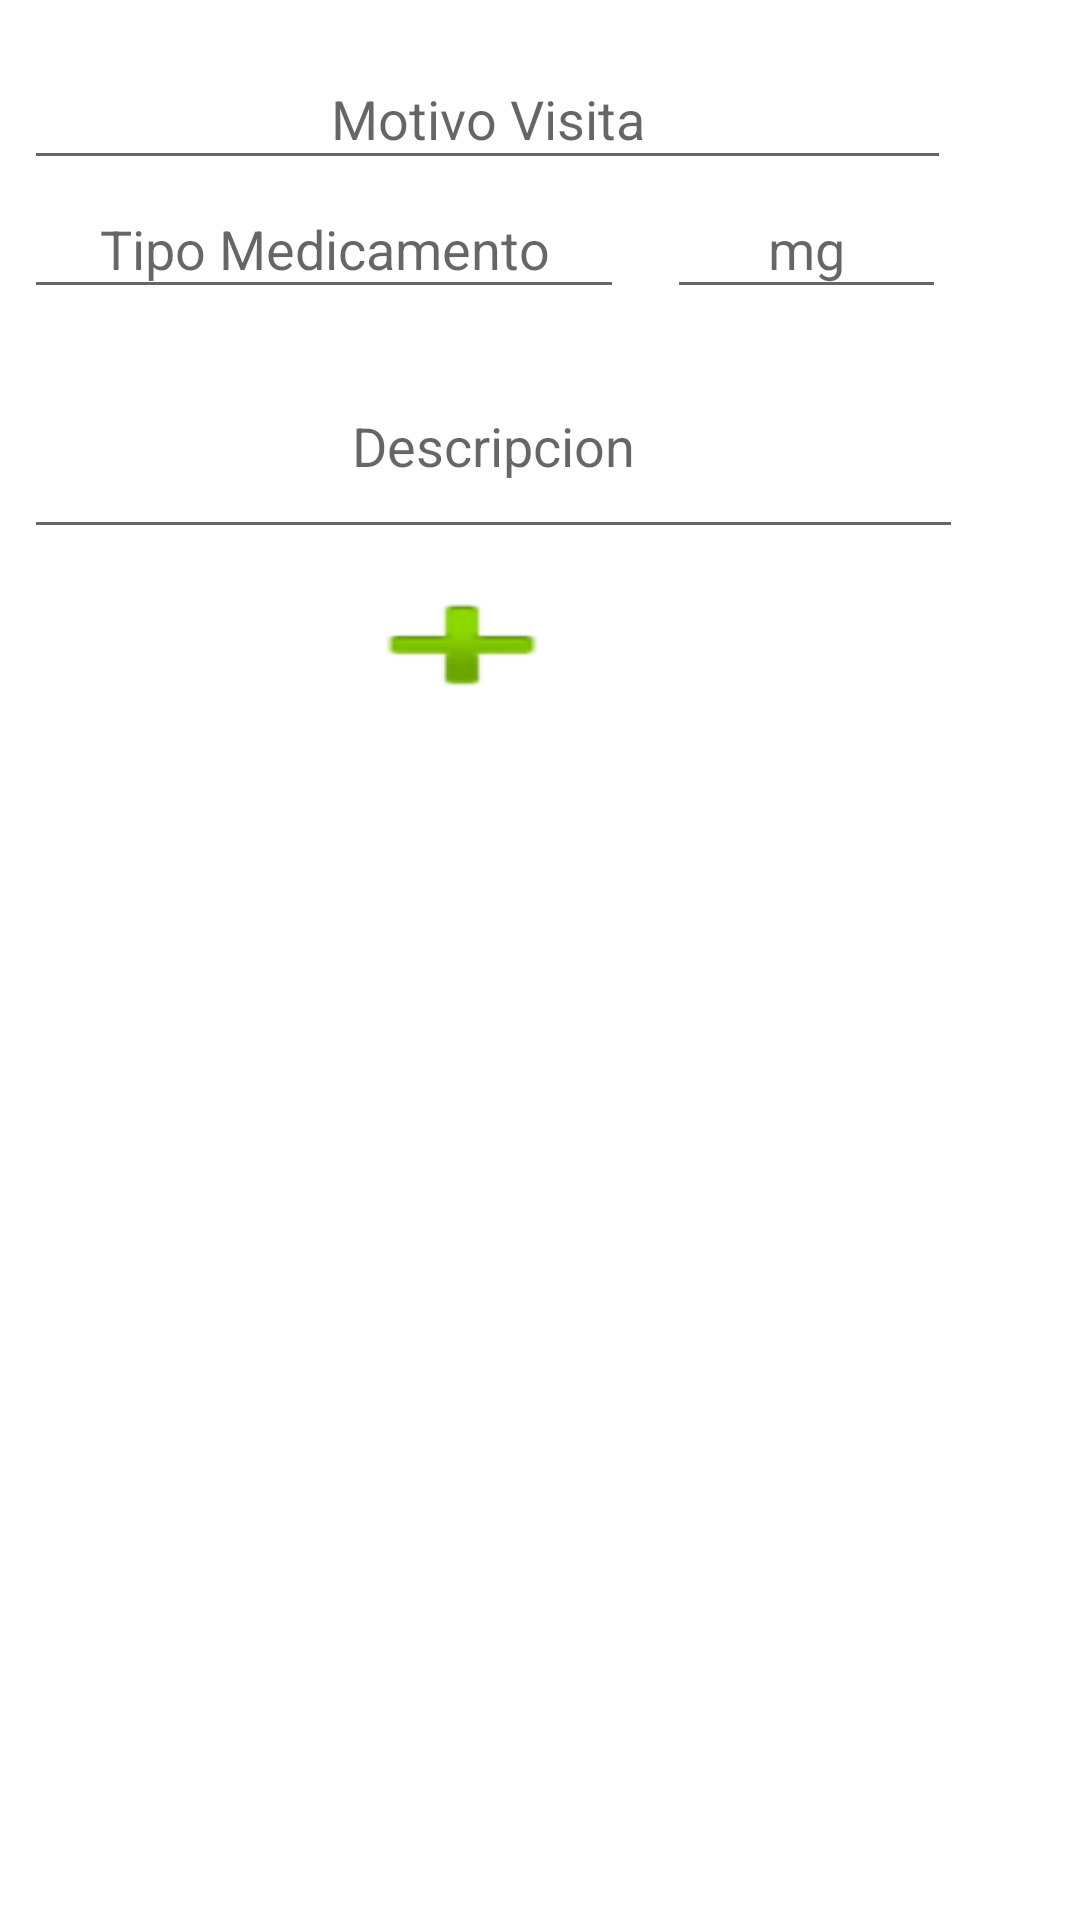

Where to tap for icons on this 1080x1920 app screen, as point (x, y):
add: point (462, 645)
